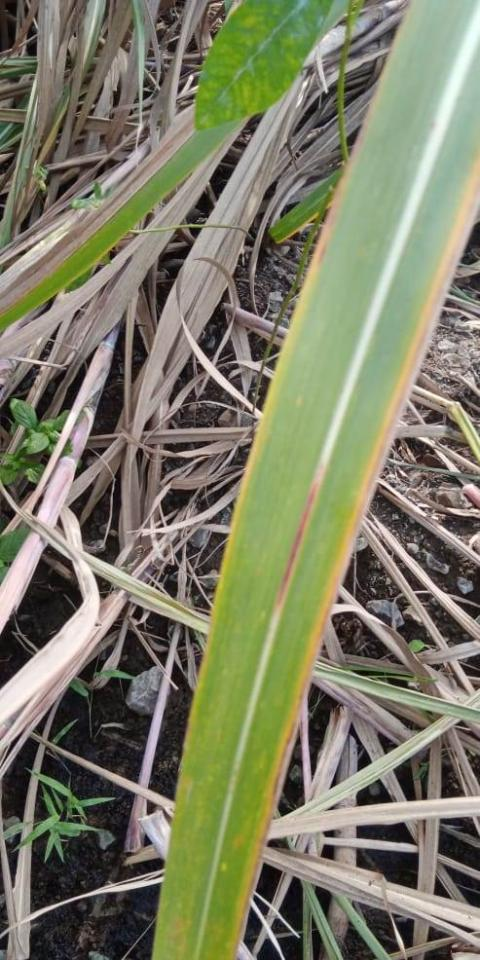RedRot: (272, 461, 326, 615)
